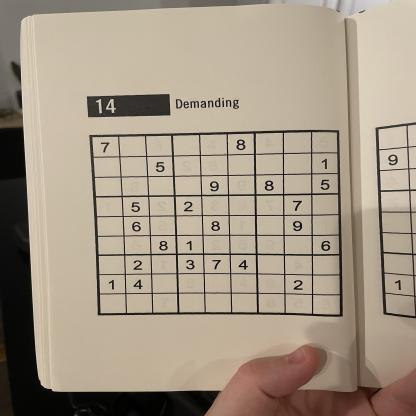sudoku: (83, 126, 349, 322)
